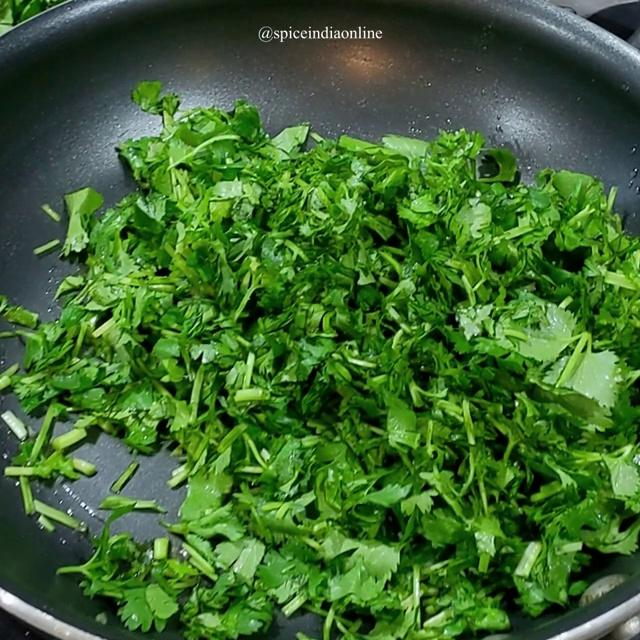cilantro: (51, 166, 629, 595)
